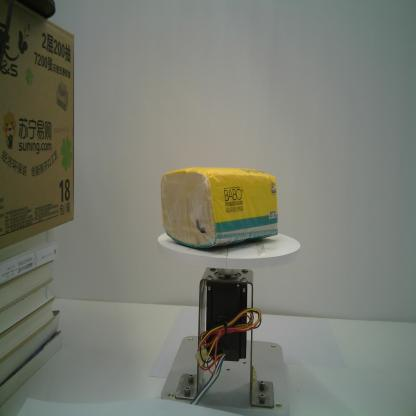Tissue: (161, 166, 278, 250)
